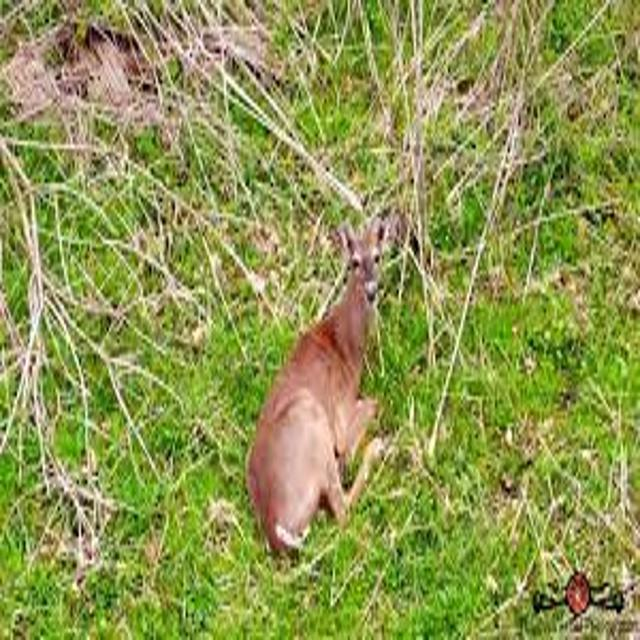deer: (213, 183, 453, 591)
